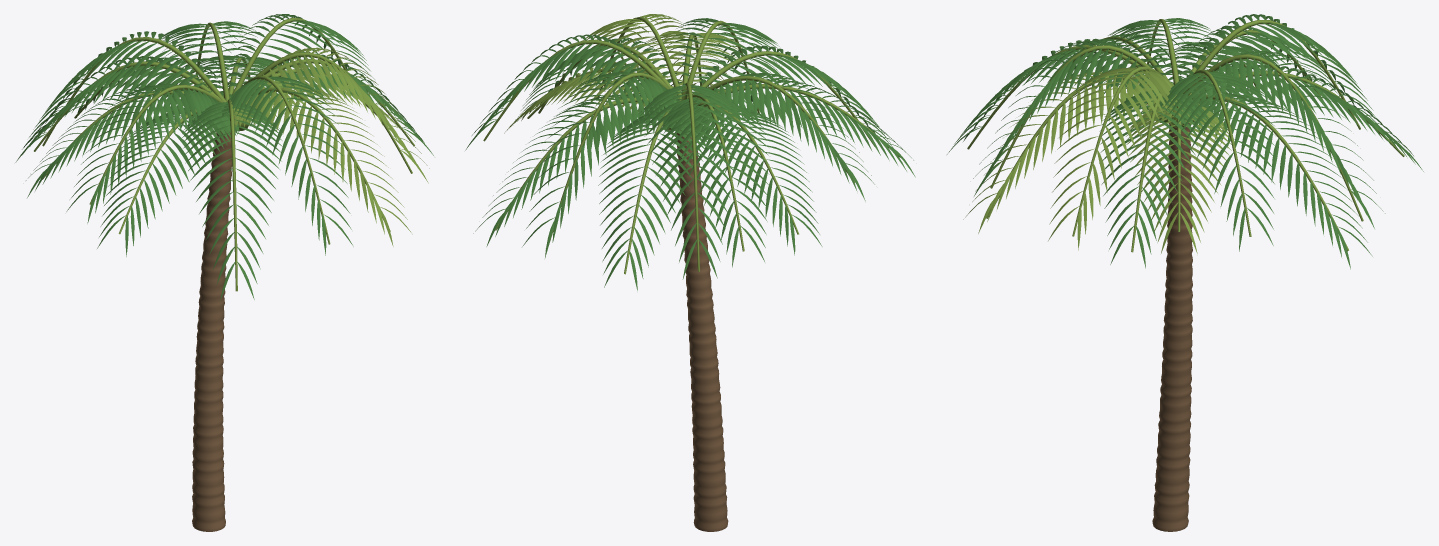
Rendered from PalmLOD0.fbx.
The picture shows the model from 3 angles, left to right: view 1: azimuth 30°, elevation 25°; view 2: azimuth 150°, elevation 25°; view 3: azimuth 270°, elevation 25°; orthographic projection. The views are drawn at different scales.
Parts seen in each view (by area): view 1: Palm; view 2: Palm; view 3: Palm.
Boxes of the visible parts, left/top/right/bottom form: Palm: left=15, top=14, right=433, bottom=531; Palm: left=465, top=14, right=915, bottom=531; Palm: left=947, top=14, right=1423, bottom=531.
Size of the model in its own units: 558 by 688 by 599.
